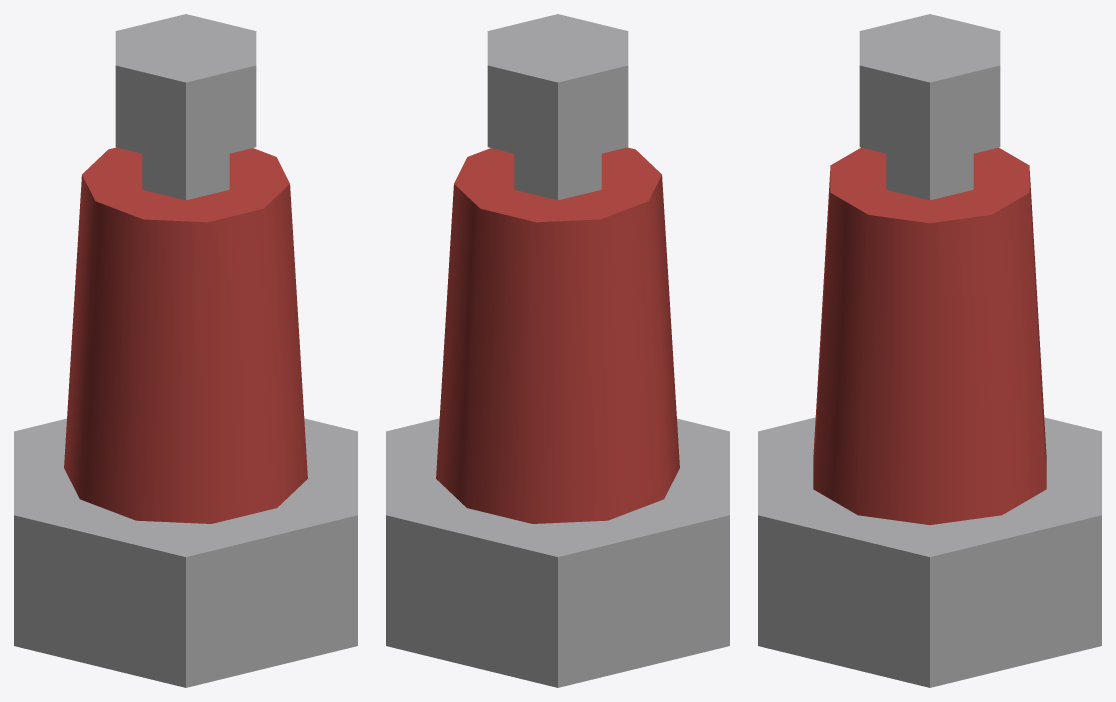
Rendered from plug_lod1.glb.
3 renders of one model, left to right at view 1: azimuth 30°, elevation 25°; view 2: azimuth 150°, elevation 25°; view 3: azimuth 270°, elevation 25°, orthographic.
Parts seen in each view (by area): view 1: plug_lod1; view 2: plug_lod1; view 3: plug_lod1.
Part boxes in pixels (x1,y1,x2,y2): plug_lod1: [14, 14, 357, 687]; plug_lod1: [386, 14, 729, 687]; plug_lod1: [758, 14, 1101, 687].
Bounding box in the file's own units: 0.022 × 0.034 × 0.0191.
